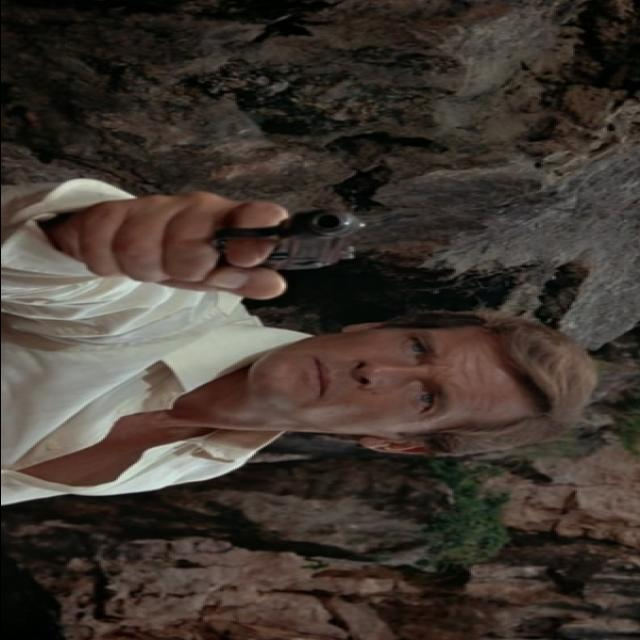weapons: (134, 195, 386, 299)
